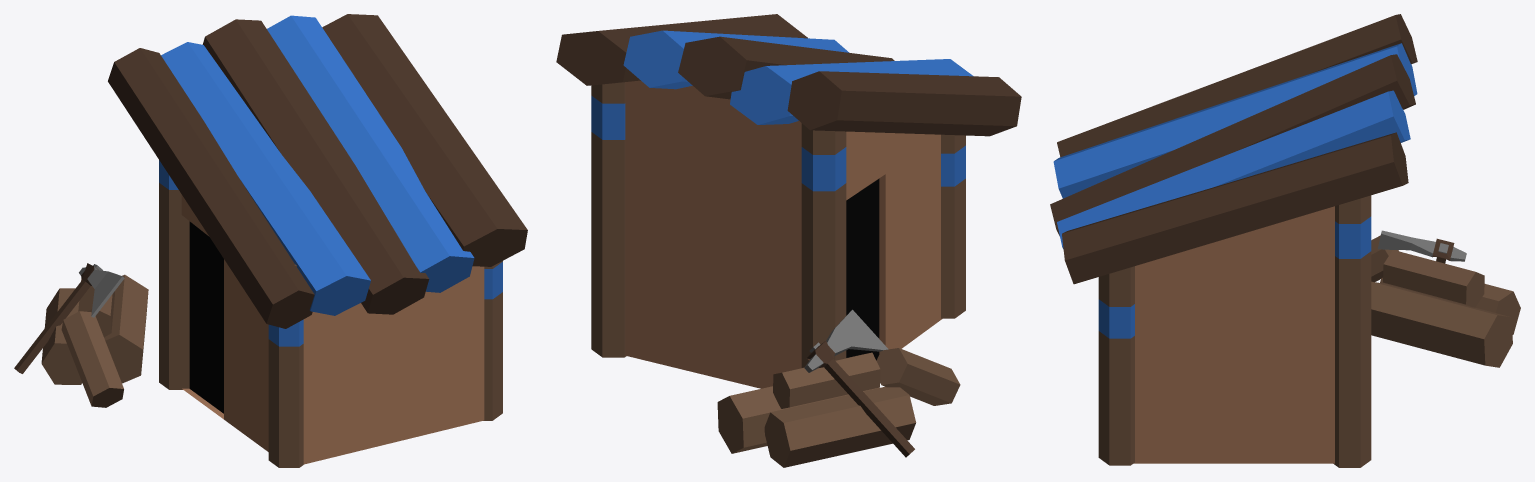
Rendered from Woodcutter Hut LvL 2.fbx.
The picture shows the model from 3 angles, left to right: view 1: azimuth 30°, elevation 25°; view 2: azimuth 150°, elevation 25°; view 3: azimuth 270°, elevation 25°; orthographic projection. The views are drawn at different scales.
Parts seen in each view (by area): view 1: Hut 2, TeamColorObj 2; view 2: Hut 2, TeamColorObj 2; view 3: Hut 2, TeamColorObj 2.
Boxes of the visible parts, x1,y1,x2,y2 form: Hut 2: [14, 14, 527, 467]; TeamColorObj 2: [159, 15, 502, 346]; Hut 2: [556, 14, 1021, 467]; TeamColorObj 2: [591, 30, 973, 191]; Hut 2: [1050, 14, 1520, 467]; TeamColorObj 2: [1053, 43, 1417, 338].
Size of the model in its own units: 112 by 103 by 127.
